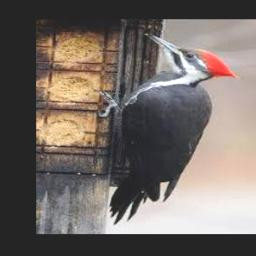Woodpecker: (97, 33, 239, 224)
